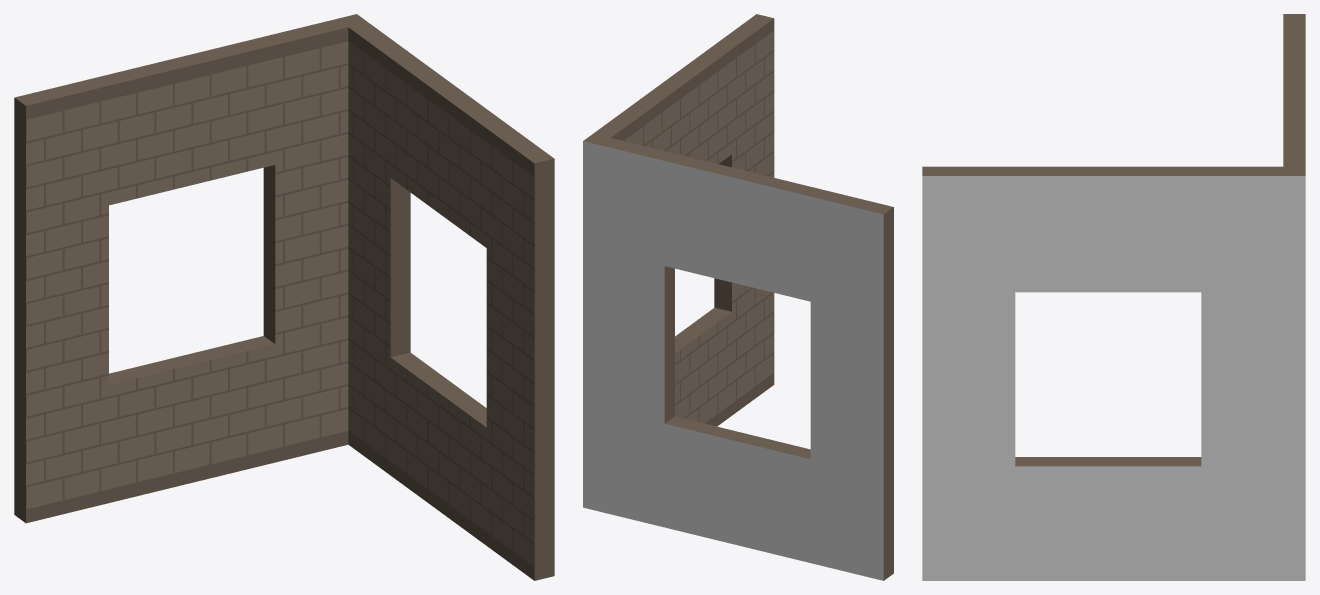
Rendered from Wall1_C10_12.fbx.
The picture shows the model from 3 angles, left to right: view 1: azimuth 30°, elevation 25°; view 2: azimuth 150°, elevation 25°; view 3: azimuth 270°, elevation 25°; orthographic projection. The views are drawn at different scales.
Visible parts, largest first — view 1: Wall1_C10_12; view 2: Wall1_C10_12; view 3: Wall1_C10_12.
Boxes of the visible parts, box(x1,y1,x2,y2) form: Wall1_C10_12: box(14, 14, 554, 580); Wall1_C10_12: box(583, 14, 893, 580); Wall1_C10_12: box(922, 14, 1305, 580).
Bounding box in the file's own units: 258 × 300 × 258.
